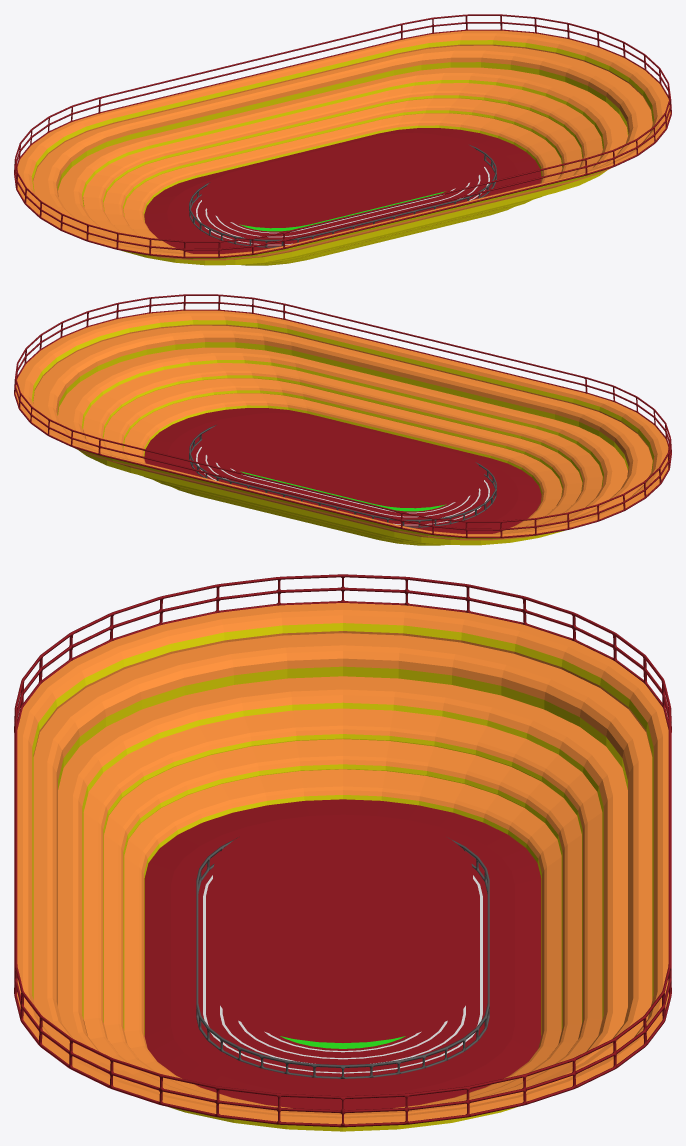
File: FinalTrack.fbx
3 views of the same model, one above another, from view 1: azimuth 30°, elevation 25°; view 2: azimuth 150°, elevation 25°; view 3: azimuth 270°, elevation 25° (orthographic). The views are drawn at different scales.
Parts seen in each view (by area): view 1: Circle, Circle.001, Track_2, Track_1, Track_3, Circle.002; view 2: Circle, Track_3, Circle.001, Track_2, Track_1, Circle.002; view 3: Circle, Track_2, Track_3, Circle.001, Track_1, Circle.002.
Part boxes in pixels (x1,y1,x2,y2): Circle: [15, 30, 670, 265]; Circle.001: [14, 14, 671, 258]; Track_2: [211, 137, 474, 223]; Track_1: [220, 142, 460, 219]; Track_3: [201, 133, 484, 228]; Circle.002: [189, 145, 496, 247]; Circle: [15, 310, 670, 545]; Track_3: [201, 413, 484, 508]; Circle.001: [14, 294, 671, 538]; Track_2: [211, 417, 474, 503]; Track_1: [221, 421, 465, 499]; Circle.002: [189, 425, 496, 527]; Circle: [17, 603, 668, 1131]; Track_2: [229, 822, 456, 1035]; Track_3: [213, 815, 472, 1042]; Circle.001: [14, 574, 671, 1127]; Track_1: [251, 832, 438, 1028]; Circle.002: [196, 837, 489, 1078].
Bounding box in the file's own units: 1027 × 112 × 545.
